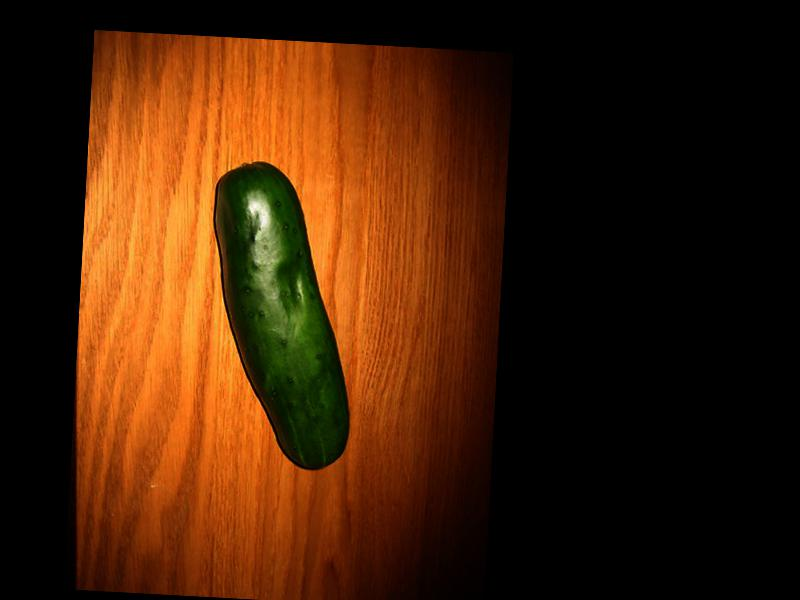Cucumber: (200, 163, 361, 472)
